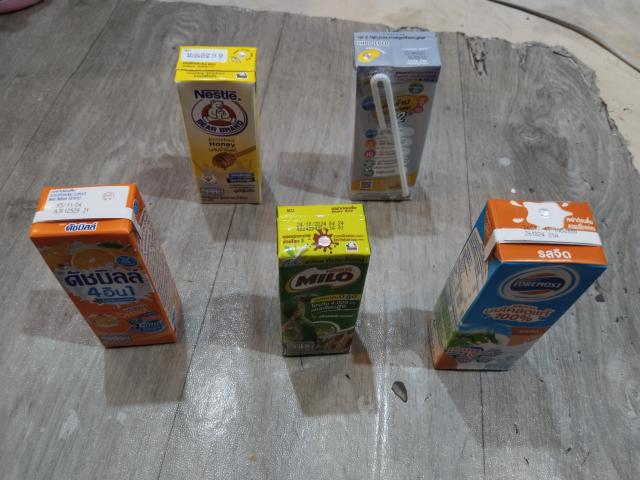drink_box: (413, 179, 627, 386), (22, 177, 186, 354), (266, 201, 378, 361), (168, 38, 274, 206), (346, 26, 443, 207)
